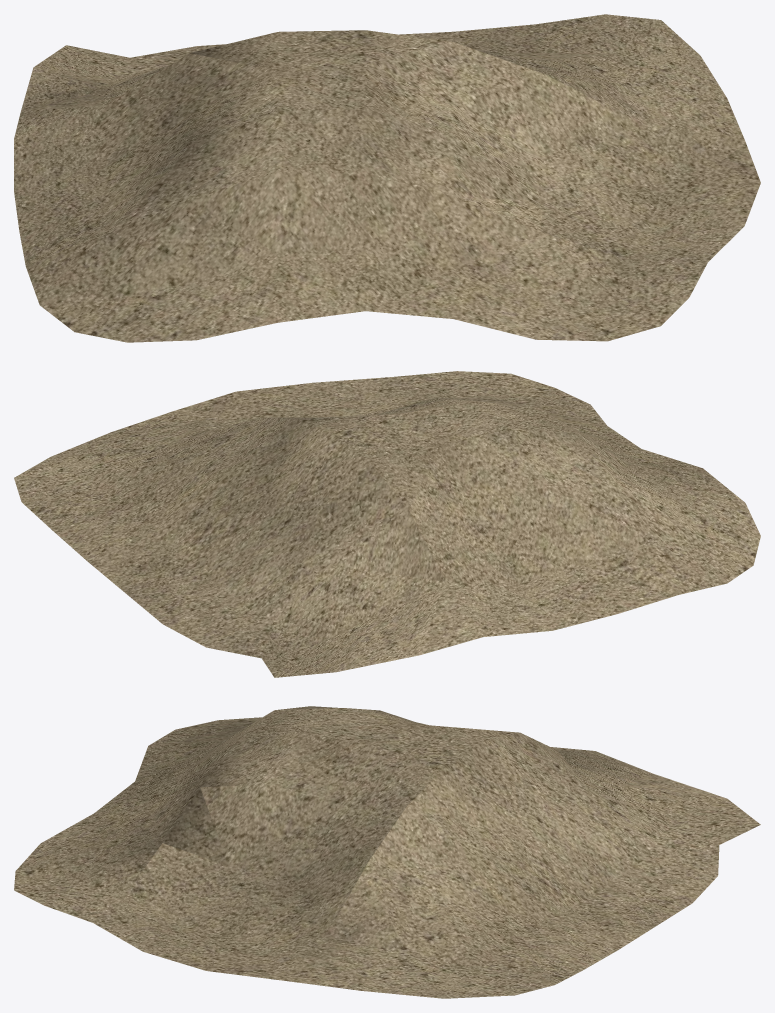
The model's file is tw2_5_dun_addon_01_4-transformed.glb.
3 renders of one model, top to bottom at view 1: azimuth 30°, elevation 25°; view 2: azimuth 150°, elevation 25°; view 3: azimuth 270°, elevation 25°, orthographic. The views are drawn at different scales.
Visible parts, largest first — view 1: 5_DUN_ADDONS_01_4; view 2: 5_DUN_ADDONS_01_4; view 3: 5_DUN_ADDONS_01_4.
Part boxes in pixels (box(x1,y1,x2,y2)): 5_DUN_ADDONS_01_4: box(14, 14, 760, 342); 5_DUN_ADDONS_01_4: box(14, 371, 760, 677); 5_DUN_ADDONS_01_4: box(14, 706, 760, 998).
Bounding box in the file's own units: 3.54 × 0.6347 × 3.66.
1 material, 1 textured.
